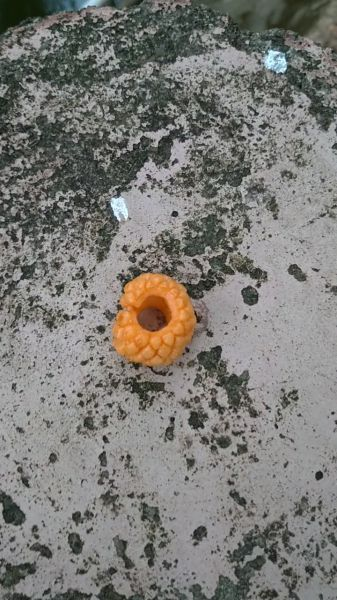eggs: (108, 268, 199, 370)
